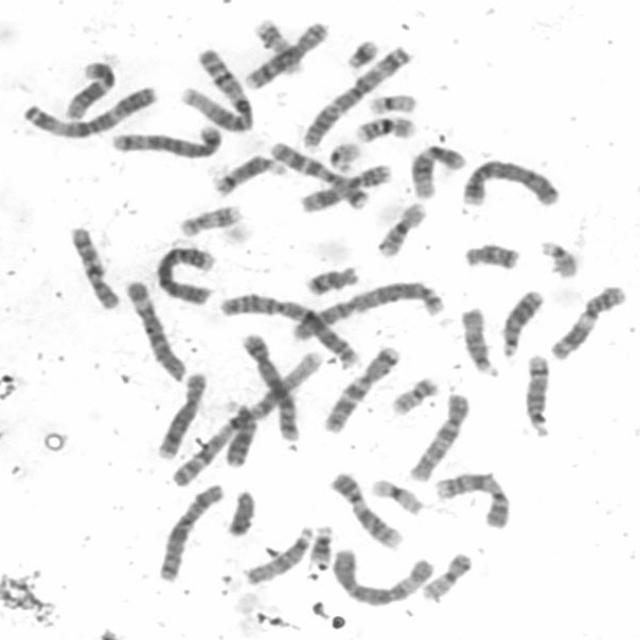A1: (164, 345, 326, 490), (176, 42, 256, 134)
A2: (214, 288, 363, 369), (286, 277, 445, 343)
A3: (296, 42, 412, 151), (19, 80, 161, 140)
B4: (458, 154, 562, 208), (153, 241, 220, 307)
B5: (236, 327, 303, 444), (107, 121, 224, 159)
C10: (404, 388, 472, 483), (65, 220, 123, 311)
C11: (544, 281, 630, 361), (297, 158, 396, 214)
C12: (58, 56, 119, 121), (406, 140, 468, 200)
C6: (120, 272, 190, 382), (328, 542, 438, 607)
C7: (320, 340, 405, 435), (266, 136, 374, 210)
C8: (240, 15, 330, 91), (153, 367, 210, 460)
C9: (325, 467, 406, 550), (429, 468, 512, 530)
D13: (498, 284, 547, 358), (218, 396, 256, 469)
D14: (209, 150, 287, 197), (519, 348, 555, 439)
D15: (239, 521, 316, 586), (456, 300, 502, 380)
E16: (371, 197, 430, 258), (351, 112, 416, 144)
E17: (251, 13, 305, 77), (174, 199, 244, 238)
E18: (300, 258, 362, 297), (458, 236, 523, 272)
F19: (366, 474, 426, 516), (362, 88, 418, 116)
F20: (418, 548, 474, 602), (387, 372, 441, 416)
G21: (303, 521, 336, 572), (340, 33, 382, 71)
G22: (534, 232, 583, 280), (324, 136, 364, 173)
X: (152, 478, 226, 584)
Y: (222, 484, 260, 538)
